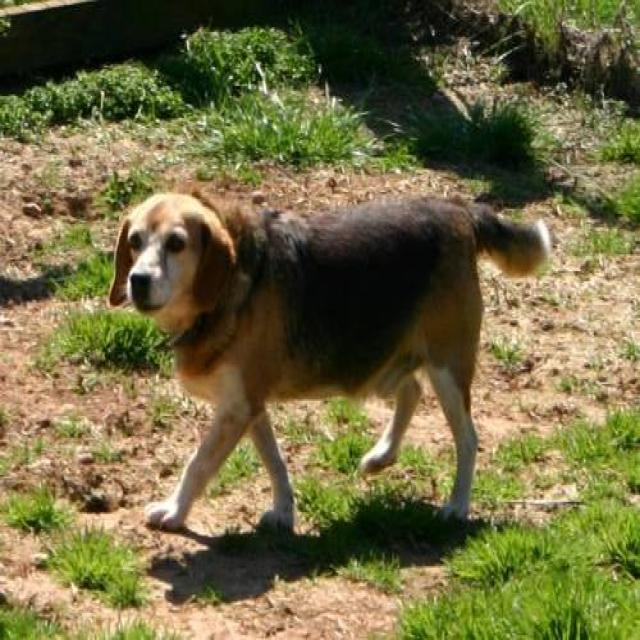adult_dog: (107, 184, 554, 535)
